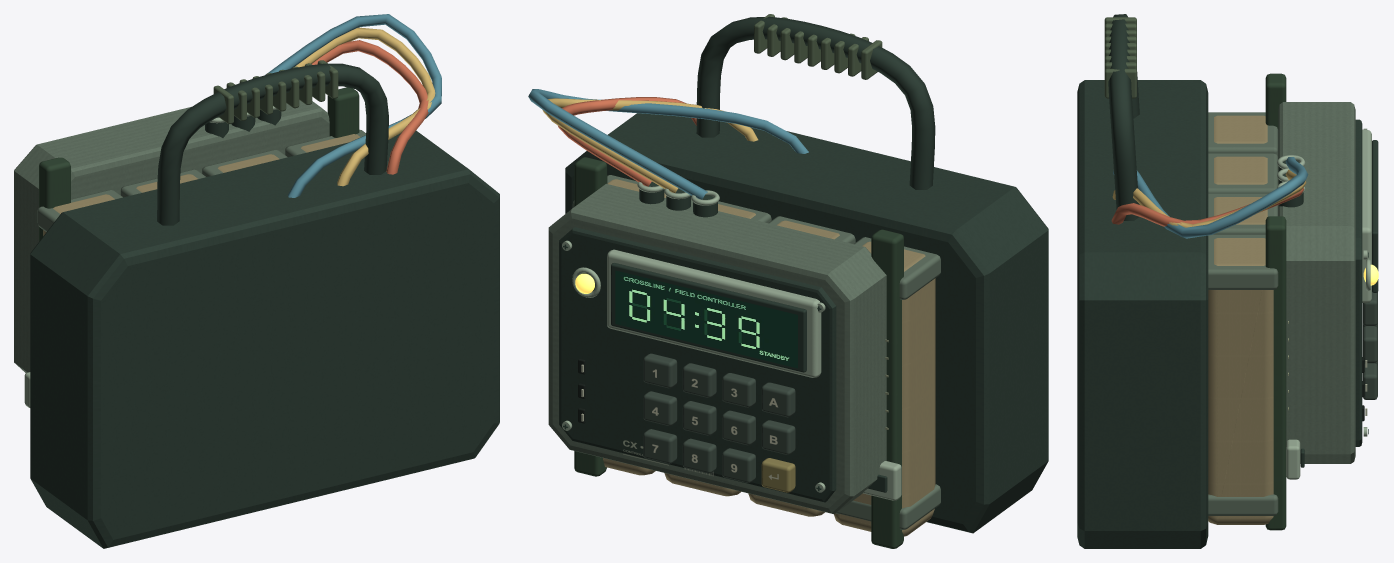
The model's file is bomb.glb.
The picture shows the model from 3 angles, left to right: view 1: azimuth 30°, elevation 25°; view 2: azimuth 150°, elevation 25°; view 3: azimuth 270°, elevation 25°; orthographic projection. The views are drawn at different scales.
Parts seen in each view (by area): view 1: bomb, carryHandle; view 2: bomb, carryHandle, display; view 3: bomb, carryHandle.
Part boxes in pixels (x1,y1,x2,y2): bomb: (14,14,499,548); carryHandle: (157,60,388,225); bomb: (528,89,1048,548); carryHandle: (696,14,935,189); display: (615,270,797,368); bomb: (1077,73,1378,548); carryHandle: (1104,14,1139,220).
Size of the model in its own units: 0.5141 by 0.4874 by 0.3178.
20 materials, 12 textured.
